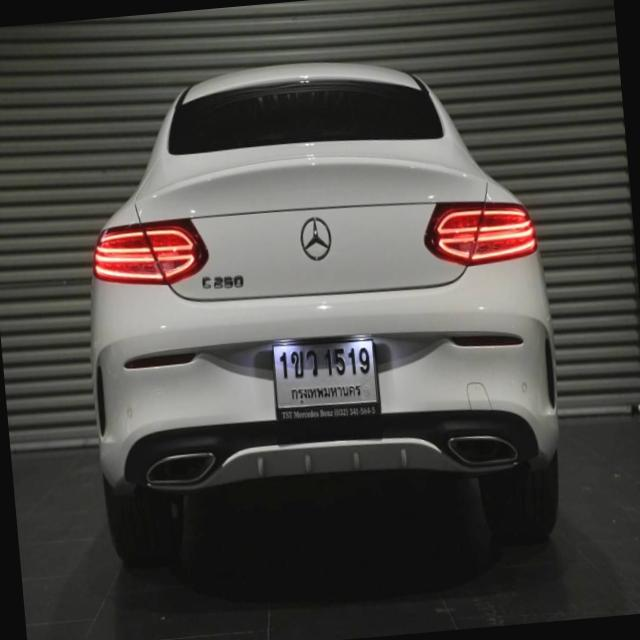license_plate: (268, 330, 384, 427)
